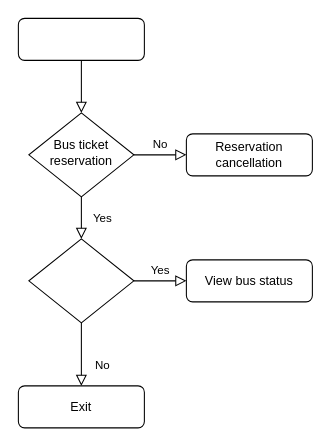
Image size: 331x446. Some labels were removed from this diagram. Each missing label, with the centre of its shape:
"Login" goes at point 80,38.
"Reservation confirmed" goes at point 81,280.
